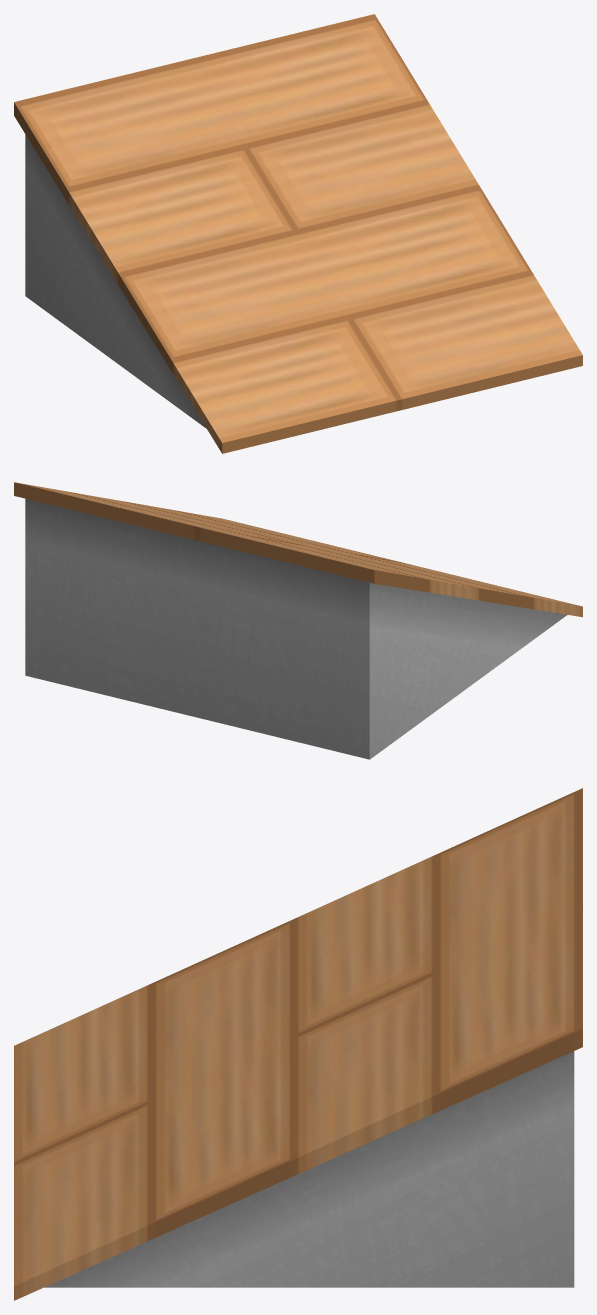
Rendered from RampPrefab.fbx.
The picture shows the model from 3 angles, top to bottom: view 1: azimuth 30°, elevation 25°; view 2: azimuth 150°, elevation 25°; view 3: azimuth 270°, elevation 25°; orthographic projection. The views are drawn at different scales.
Visible parts, largest first — view 1: AllSideTiles, AllSideTiles (1); view 2: AllSideTiles (1), AllSideTiles; view 3: AllSideTiles, AllSideTiles (1).
Part boxes in pixels (bbox=[...]): AllSideTiles: bbox=[14, 14, 582, 453]; AllSideTiles (1): bbox=[25, 134, 206, 428]; AllSideTiles (1): bbox=[25, 498, 567, 759]; AllSideTiles: bbox=[14, 482, 582, 617]; AllSideTiles: bbox=[14, 788, 582, 1300]; AllSideTiles (1): bbox=[44, 1051, 574, 1287].
Size of the model in its own units: 1 by 0.5284 by 1.
